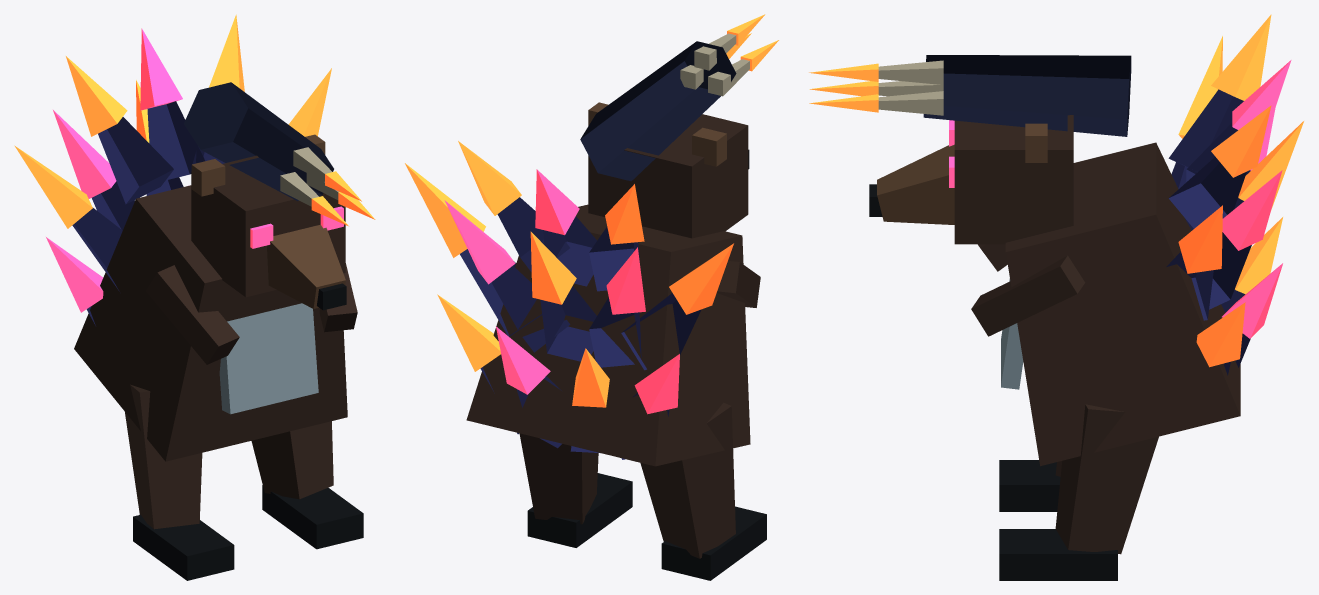
The model's file is gunner.glb.
3 renders of one model, left to right at view 1: azimuth 30°, elevation 25°; view 2: azimuth 150°, elevation 25°; view 3: azimuth 270°, elevation 25°, orthographic. The views are drawn at different scales.
Visible parts, largest first — view 1: FGunnerHull, FGunnerGlow; view 2: FGunnerHull, FGunnerGlow; view 3: FGunnerHull, FGunnerGlow.
Boxes of the visible parts, x1,y1,x2,y2 form: FGunnerHull: [72, 82, 363, 580]; FGunnerGlow: [14, 14, 375, 312]; FGunnerHull: [460, 33, 766, 580]; FGunnerGlow: [405, 14, 778, 414]; FGunnerHull: [869, 55, 1251, 580]; FGunnerGlow: [809, 14, 1303, 367].
Size of the model in its own units: 1.08 by 1.41 by 1.34.
